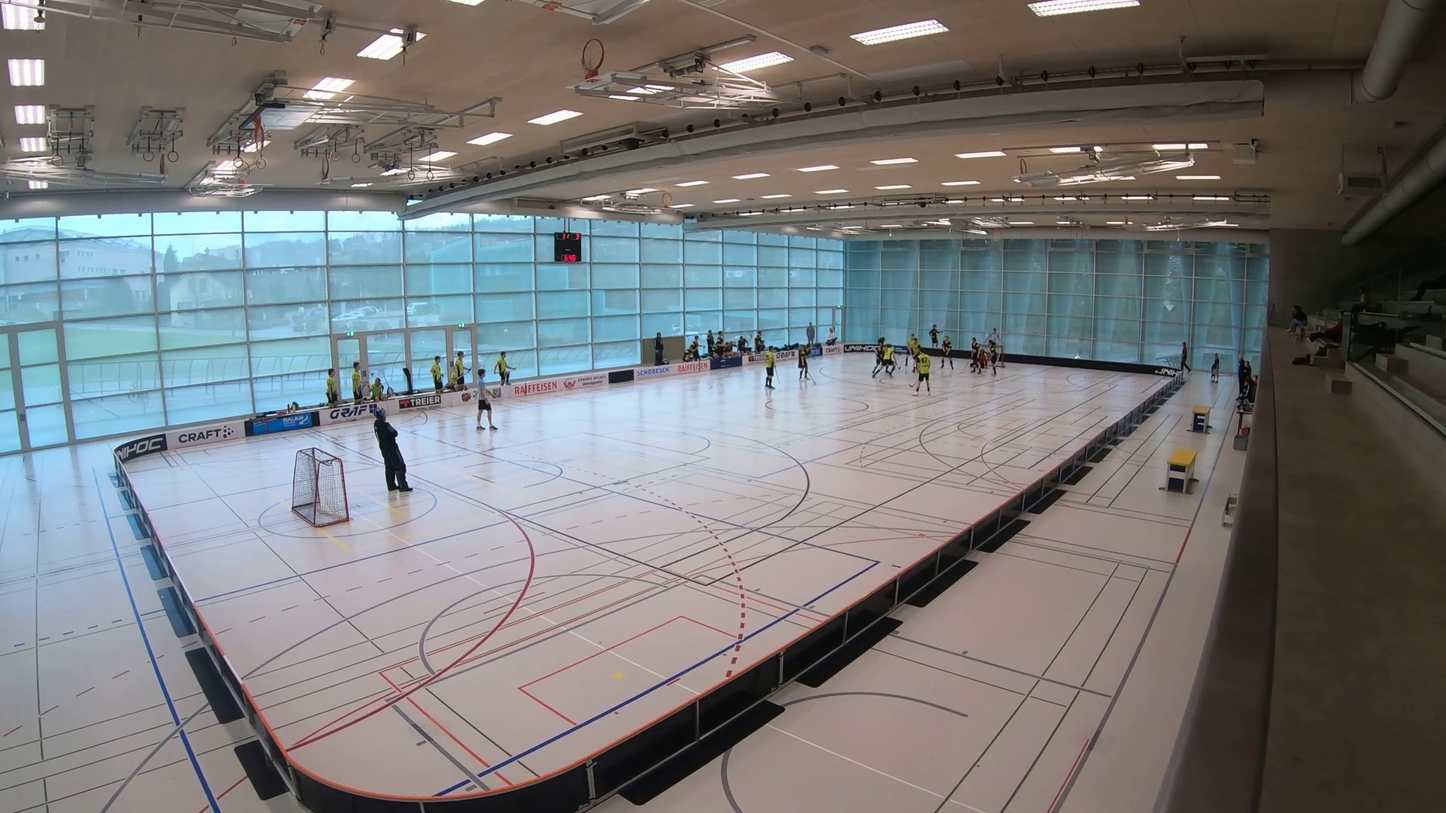Schiri: (472, 365, 499, 435), (986, 326, 1001, 343)
goalkeeper: (371, 406, 412, 492), (974, 345, 987, 373)
player: (914, 351, 931, 396), (798, 348, 813, 384), (871, 337, 884, 377), (764, 348, 776, 388), (907, 333, 920, 367), (883, 343, 895, 377), (941, 336, 953, 369), (987, 342, 998, 375), (969, 337, 979, 371)
